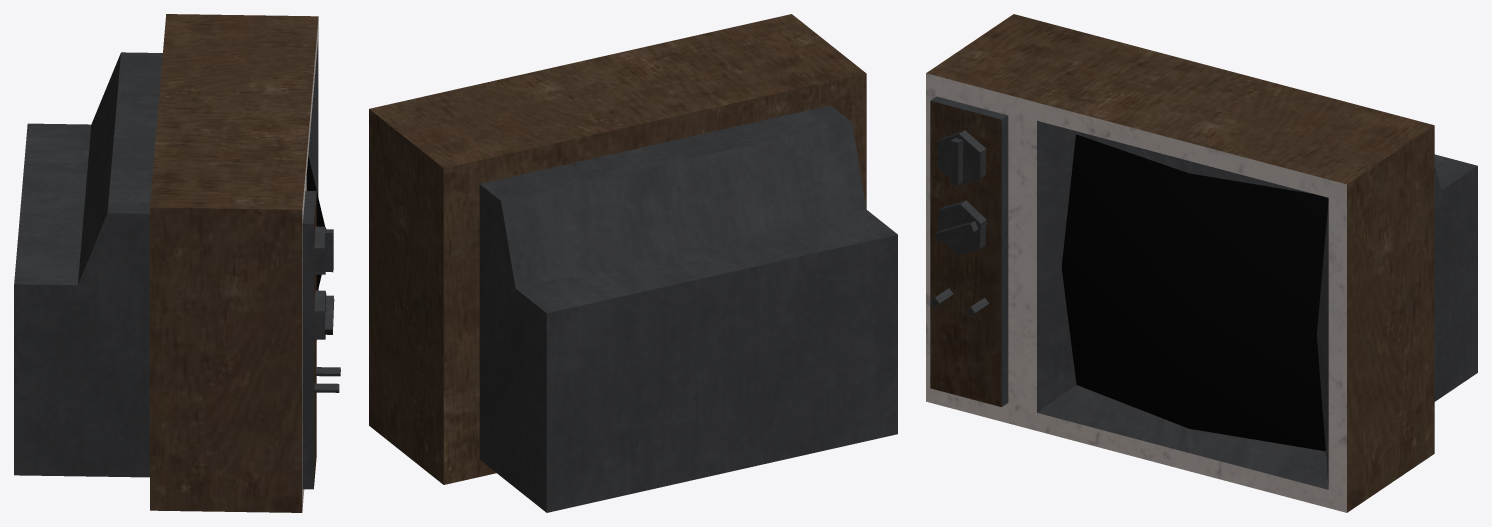
The picture shows the model from 3 angles, left to right: view 1: azimuth 30°, elevation 25°; view 2: azimuth 150°, elevation 25°; view 3: azimuth 270°, elevation 25°; orthographic projection. The views are drawn at different scales.
Visible parts, largest first — view 1: Cube195_Wood_06_0, Cube195_Plastic_02_0, Cube195_Marmol_0, Cube195_Material121_0; view 2: Cube195_Plastic_02_0, Cube195_Wood_06_0; view 3: Cube195_Wood_06_0, Cube195_Material121_0, Cube195_Plastic_02_0, Cube195_Marmol_0.
Boxes of the visible parts, x1,y1,x2,y2 form: Cube195_Wood_06_0: (150, 14, 318, 512); Cube195_Plastic_02_0: (14, 42, 340, 489); Cube195_Marmol_0: (302, 18, 318, 510); Cube195_Material121_0: (306, 156, 324, 290); Cube195_Plastic_02_0: (479, 105, 897, 512); Cube195_Wood_06_0: (369, 14, 866, 484); Cube195_Wood_06_0: (926, 14, 1434, 512); Cube195_Material121_0: (1061, 134, 1328, 451); Cube195_Plastic_02_0: (930, 96, 1477, 489); Cube195_Marmol_0: (926, 73, 1346, 512).
Bounding box in the file's own units: 1.37 × 0.9793 × 1.49.
4 materials, 3 textured.
